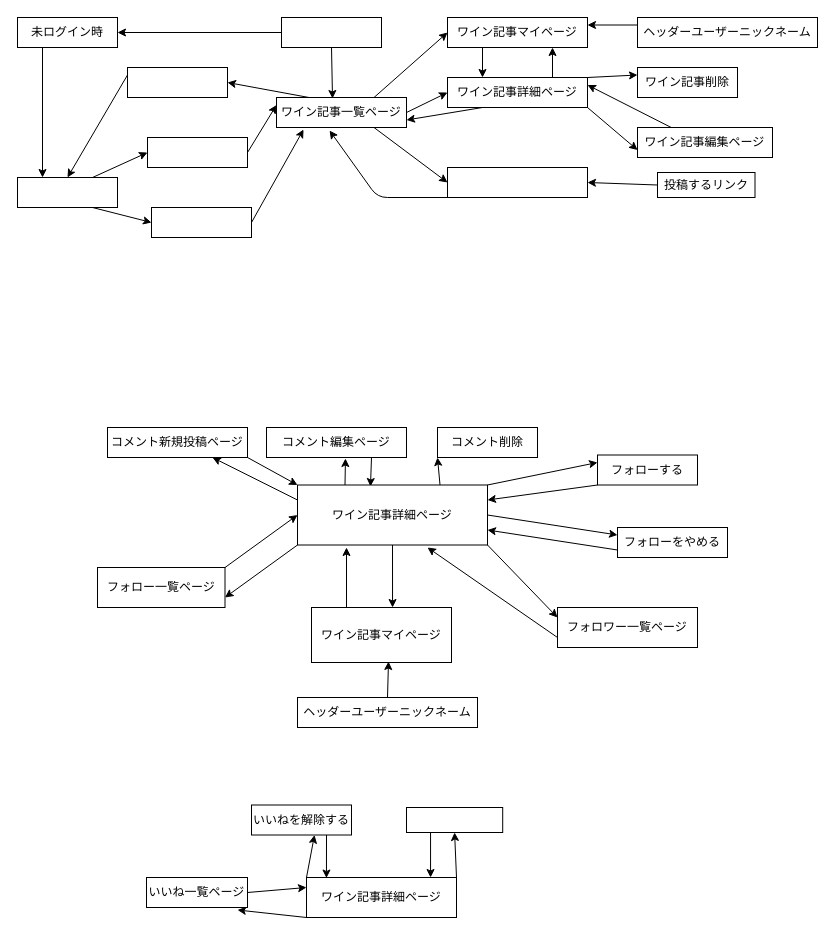
This 835x943 diagram has some shape labels left out. The shapes that lost their labels are listed below. From the top down, each one's centre as x and y in pixels, then its label:
At point (331, 32): "Wine-Park♪ロゴ".
At point (177, 82): "ログアウト".
At point (197, 152): "新規登録ページ".
At point (67, 192): "トップページ".
At point (517, 182): "ワイン記事新規投稿ページ".
At point (201, 222): "ログインページ".
At point (454, 819): "いいねする".
